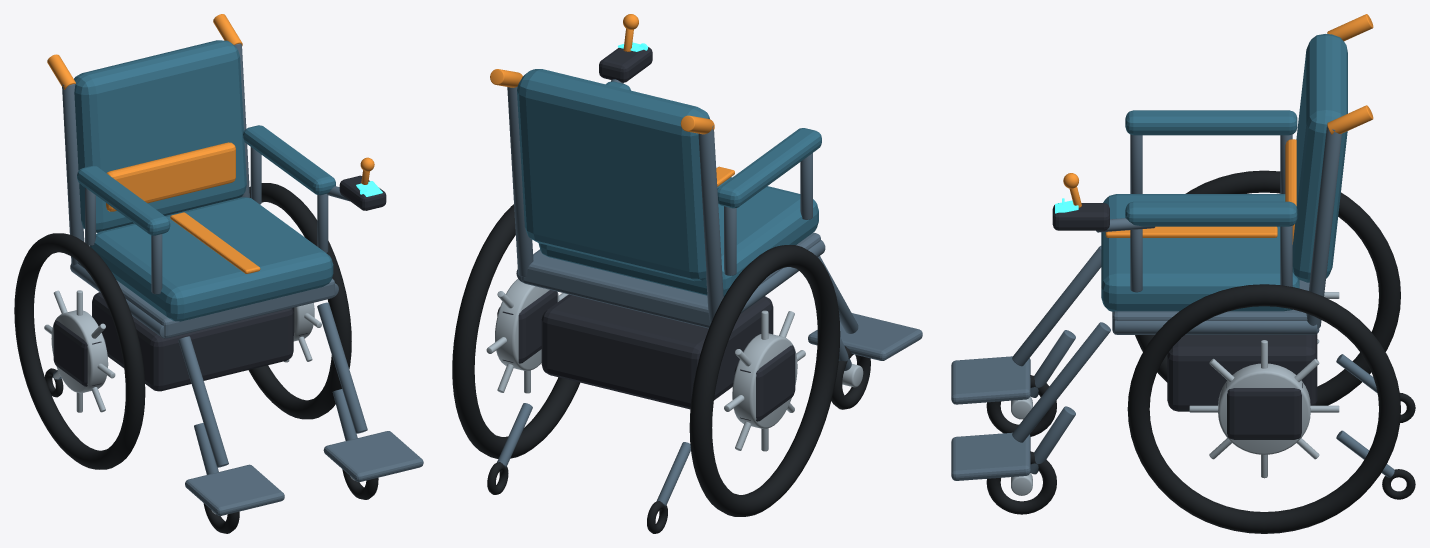
The model's file is adaptive_power_wheelchair.glb.
The picture shows the model from 3 angles, left to right: view 1: azimuth 30°, elevation 25°; view 2: azimuth 150°, elevation 25°; view 3: azimuth 270°, elevation 25°; orthographic projection. The views are drawn at different scales.
Parts seen in each view (by area): view 1: ErgonomicBackrest, PressureReliefSeat, Left_DriveTyre, BatteryPack, Right_DriveTyre, LumbarSupport, Left_Footplate, Right_Footplate, SeatBaseFrame, Left_ArmPad, Right_ArmPad, Left_DriveHub (+18 smaller); view 2: ErgonomicBackrest, BatteryPack, Left_DriveTyre, Right_DriveTyre, PressureReliefSeat, SeatBaseFrame, Left_ArmPad, Left_BackPost, Left_DriveHub, Left_Footplate, Right_DriveHub, Left_MotorHousing (+10 smaller); view 3: Right_DriveTyre, PressureReliefSeat, ErgonomicBackrest, BatteryPack, Left_DriveTyre, Left_ArmPad, Right_ArmPad, Right_MotorHousing, Right_Footplate, Left_Footplate, Right_DriveHub, Right_BackPost (+17 smaller).
Boxes of the visible parts, box(x1,y1,x2,y2) form: ErgonomicBackrest: box(74, 40, 246, 232); PressureReliefSeat: box(89, 197, 333, 321); Left_DriveTyre: box(14, 233, 145, 469); BatteryPack: box(92, 292, 293, 391); Right_DriveTyre: box(248, 183, 351, 419); LumbarSupport: box(106, 142, 235, 211); Left_Footplate: box(185, 464, 284, 515); Right_Footplate: box(323, 431, 423, 482); SeatBaseFrame: box(77, 261, 334, 338); Left_ArmPad: box(77, 166, 170, 235); Right_ArmPad: box(243, 125, 335, 195); Left_DriveHub: box(51, 310, 108, 393); ErgonomicBackrest: box(517, 69, 709, 281); BatteryPack: box(541, 294, 773, 409); Left_DriveTyre: box(689, 245, 840, 516); Right_DriveTyre: box(452, 204, 579, 458); PressureReliefSeat: box(538, 177, 818, 296); SeatBaseFrame: box(521, 232, 820, 328); Left_ArmPad: box(717, 128, 821, 208); Left_BackPost: box(698, 125, 723, 322); Left_DriveHub: box(732, 333, 797, 428); Left_Footplate: box(808, 313, 922, 360); Right_DriveHub: box(495, 279, 559, 370); Left_MotorHousing: box(734, 345, 795, 421); Right_DriveTyre: box(1127, 284, 1400, 533); PressureReliefSeat: box(1101, 194, 1299, 311); ErgonomicBackrest: box(1292, 34, 1347, 282); BatteryPack: box(1167, 334, 1317, 411); Left_DriveTyre: box(1135, 170, 1400, 405); Left_ArmPad: box(1125, 110, 1297, 135); Right_ArmPad: box(1125, 201, 1297, 226); Right_MotorHousing: box(1226, 383, 1302, 439); Right_Footplate: box(951, 432, 1030, 480); Left_Footplate: box(951, 356, 1030, 404); Right_DriveHub: box(1218, 363, 1310, 454); Right_BackPost: box(1306, 125, 1341, 328).
Size of the model in its own units: 0.68 by 1.04 by 1.05.
